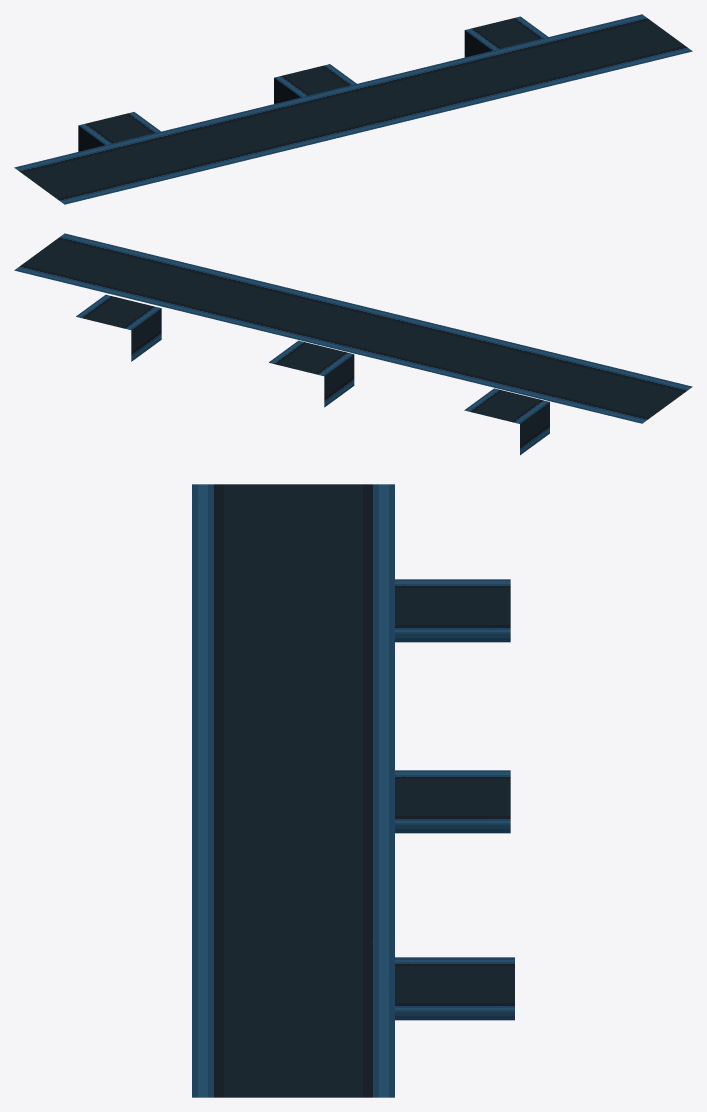
Rendered from lane1.fbx.
3 views of the same model, one above another, from view 1: azimuth 30°, elevation 25°; view 2: azimuth 150°, elevation 25°; view 3: azimuth 270°, elevation 25° (orthographic). The views are drawn at different scales.
Parts seen in each view (by area): view 1: polygon25; view 2: polygon25; view 3: polygon25.
Boxes of the visible parts, x1=… form: polygon25: x1=14, y1=14, x2=692, y2=204; polygon25: x1=14, y1=233, x2=692, y2=455; polygon25: x1=192, y1=484, x2=514, y2=1097.
Bounding box in the file's own units: 2103 × 107 × 468.
